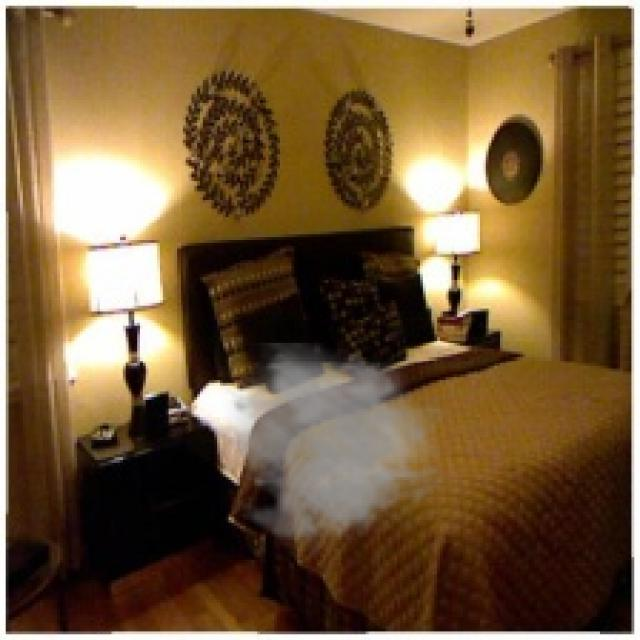smoke: (217, 343, 449, 557)
